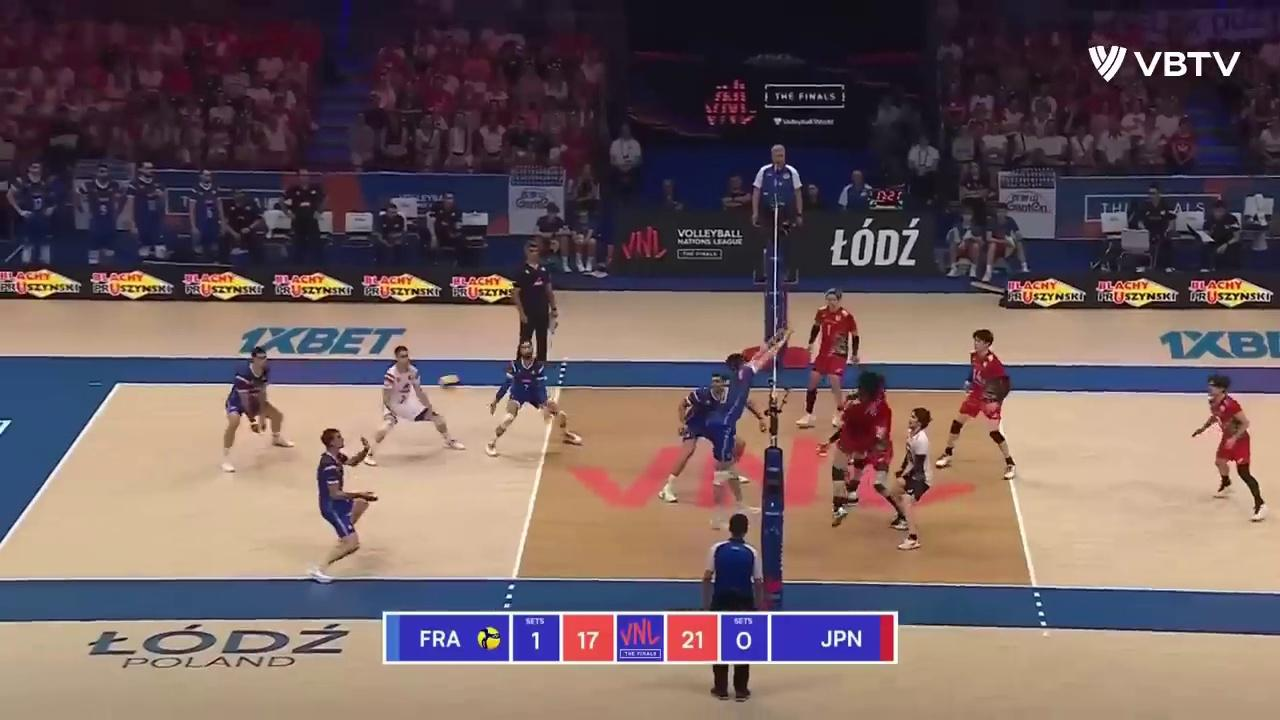ball: (440, 375, 461, 390)
